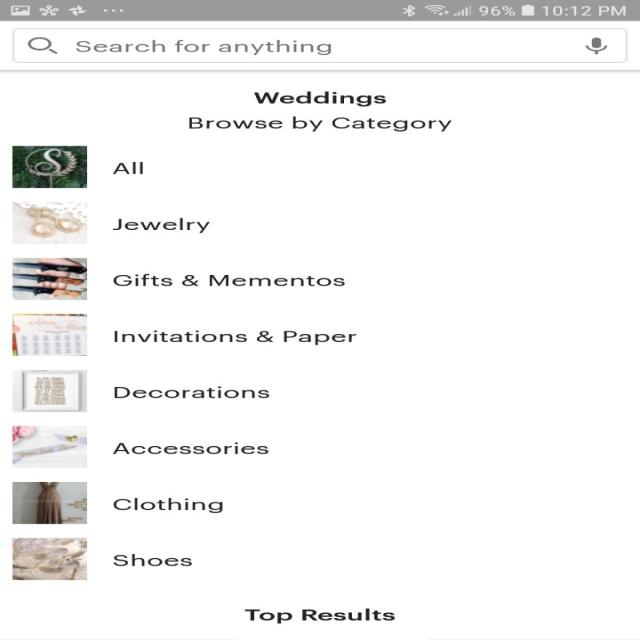EditText: (11, 28, 626, 64)
Icon: (27, 36, 58, 54), (583, 37, 607, 55)
Image: (12, 537, 88, 580), (12, 257, 88, 300), (12, 201, 88, 244), (12, 145, 88, 188), (12, 482, 88, 524), (12, 426, 88, 468), (12, 370, 88, 412), (12, 314, 88, 356)
Text: (188, 116, 452, 132), (76, 40, 332, 56), (114, 329, 356, 345), (113, 273, 345, 286), (243, 608, 394, 624), (253, 91, 386, 107), (113, 385, 270, 398), (112, 441, 268, 454), (113, 497, 223, 513), (113, 217, 211, 233), (112, 553, 192, 566), (113, 162, 144, 174)
